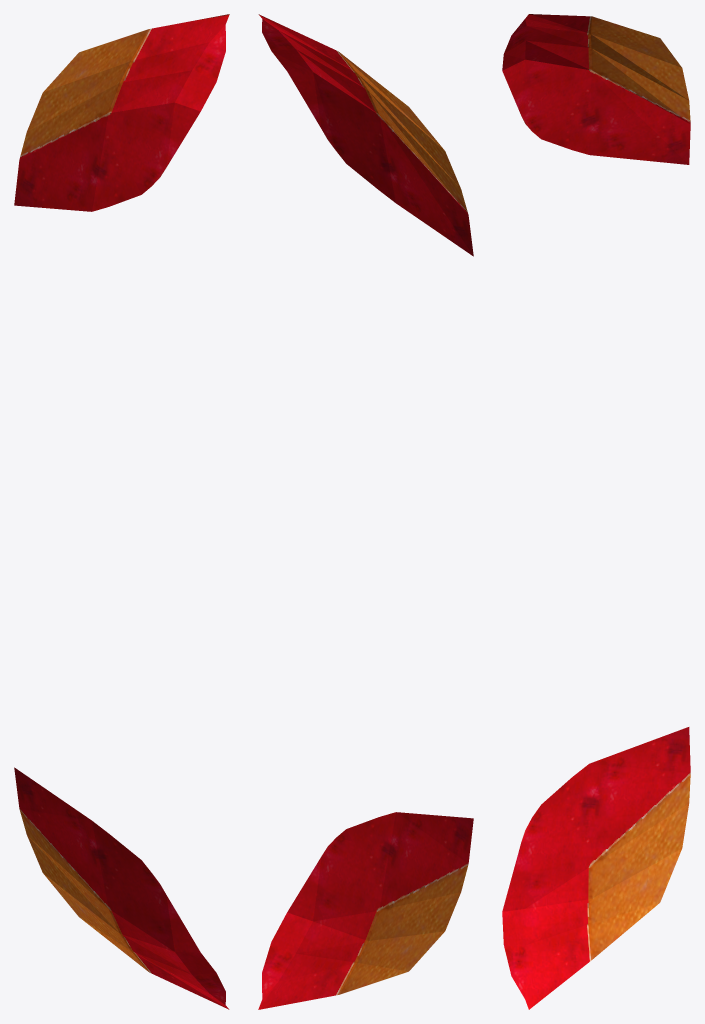
File: brakes.obj
3 views of the same model, side by side, from view 1: azimuth 30°, elevation 25°; view 2: azimuth 210°, elevation 25°; view 3: azimuth 270°, elevation 25° (orthographic).
Parts seen in each view (by area): view 1: map; view 2: map; view 3: map.
Part boxes in pixels (x1,y1,x2,y2): map: (14, 14, 229, 1009); map: (258, 14, 473, 1009); map: (502, 14, 690, 1009).
Size of the model in its own units: 0.205 by 1.44 by 0.247.
1 material, 1 textured.
